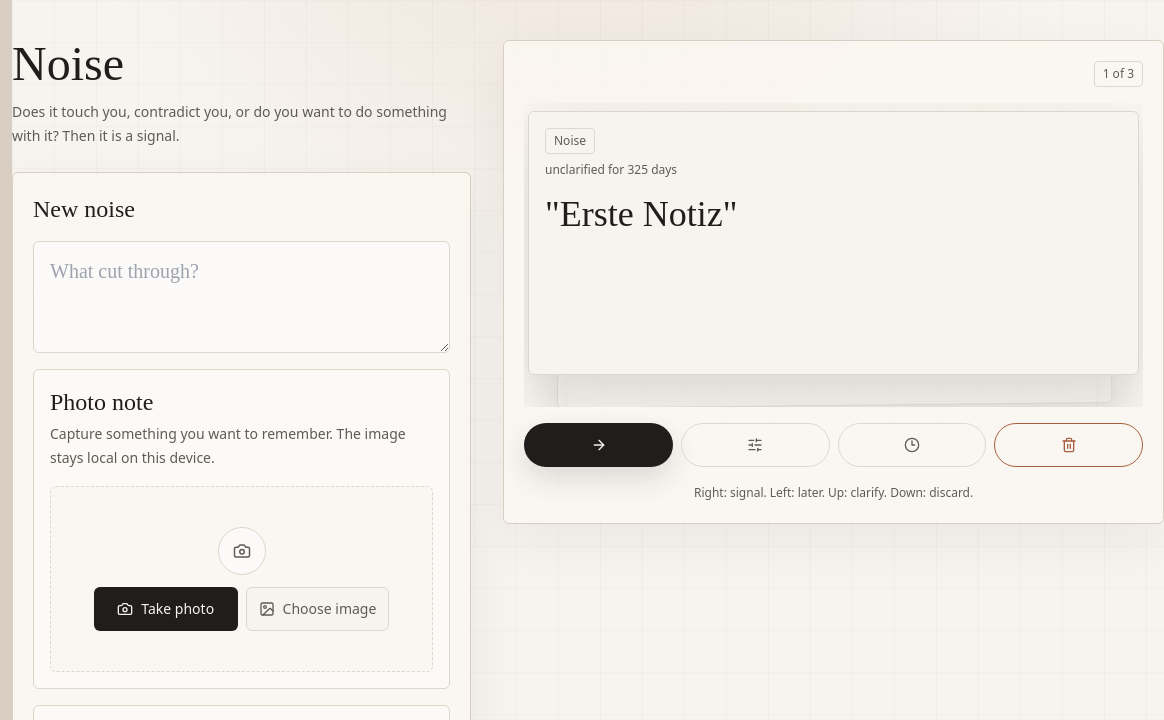
Test: InboxPage › verwirft einen Eintrag mit Rückgängig-Hinweis
expect the text "\"Erste Notiz\"" is shown: met, box [545,194,738,234]
Click the button named "Discard" at (1069,445), box [994,423,1143,467]
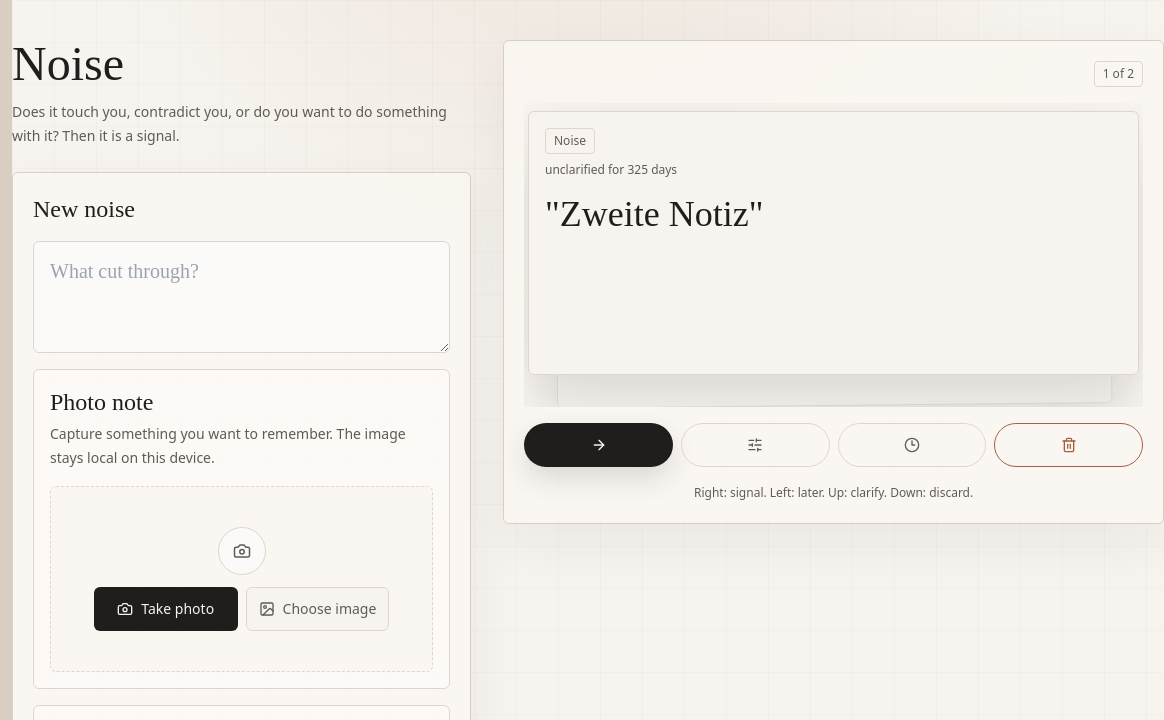
expect the text "\"Zweite Notiz\"" is shown: met, box [545,194,764,234]
